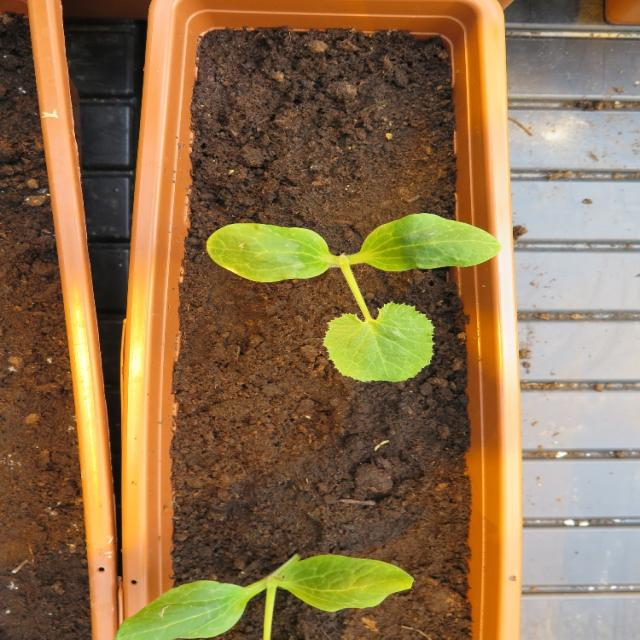crop: (198, 210, 502, 389)
weed: (372, 438, 390, 452)
